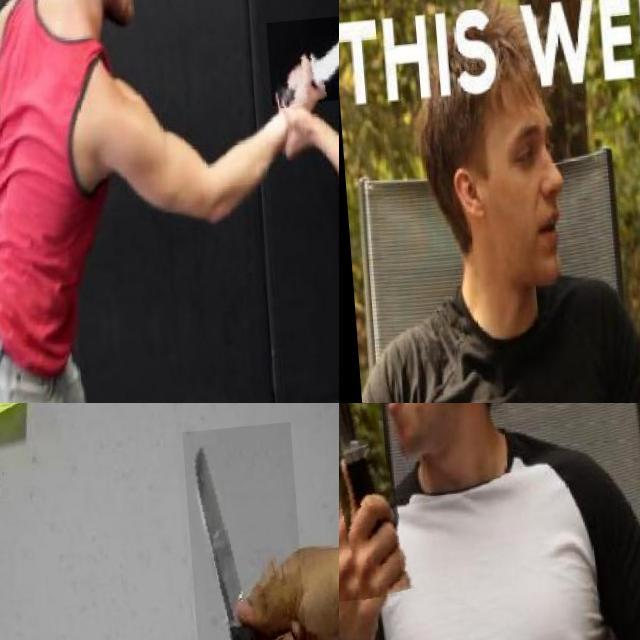-: (181, 430, 314, 640), (339, 403, 396, 609), (264, 22, 339, 113)
